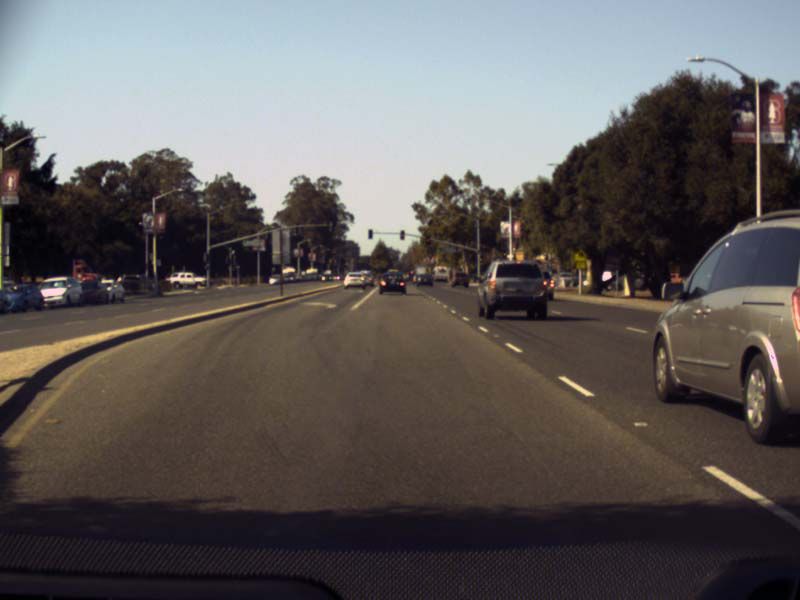Yellow: (425, 234, 431, 245), (400, 230, 404, 239)
